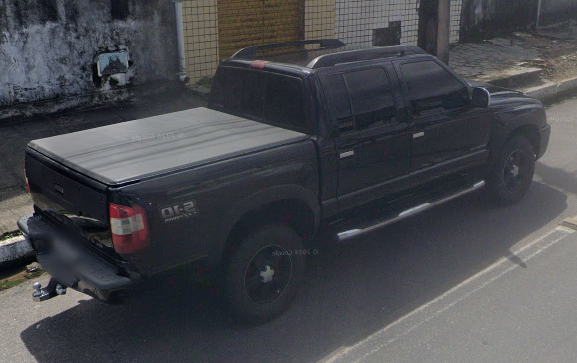car: (21, 46, 552, 324)
